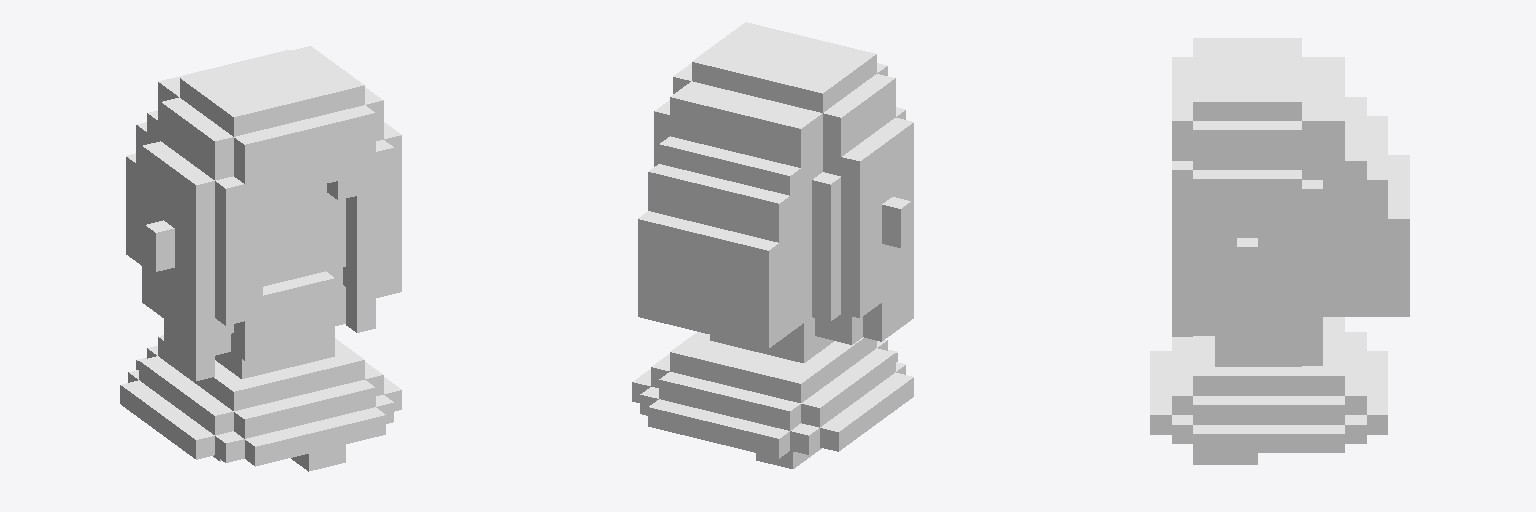
The model's file is run1.obj.
3 renders of one model, left to right at view 1: azimuth 30°, elevation 25°; view 2: azimuth 150°, elevation 25°; view 3: azimuth 270°, elevation 25°, orthographic.
Size of the model in its own units: 13 by 19 by 12.